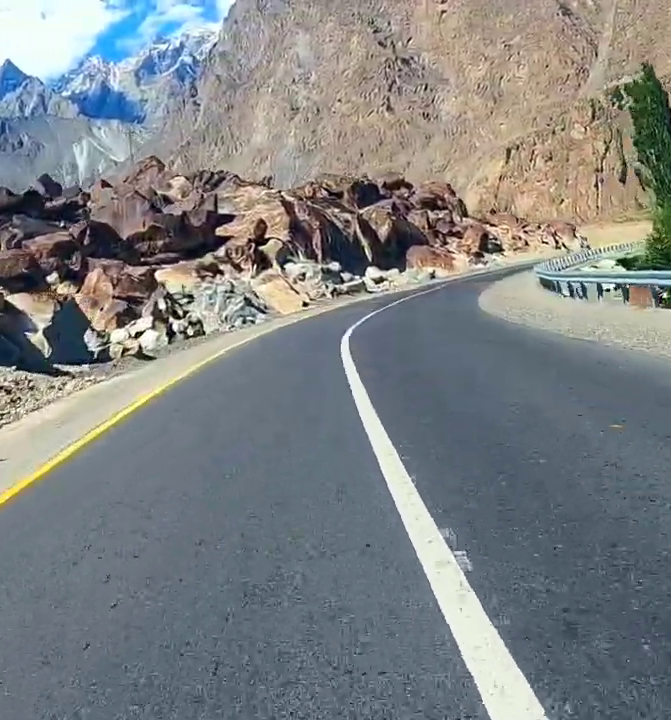stright: (266, 264, 600, 513)
